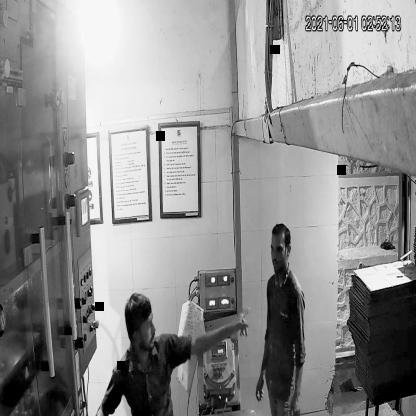no_goggles: (264, 238, 296, 261)
